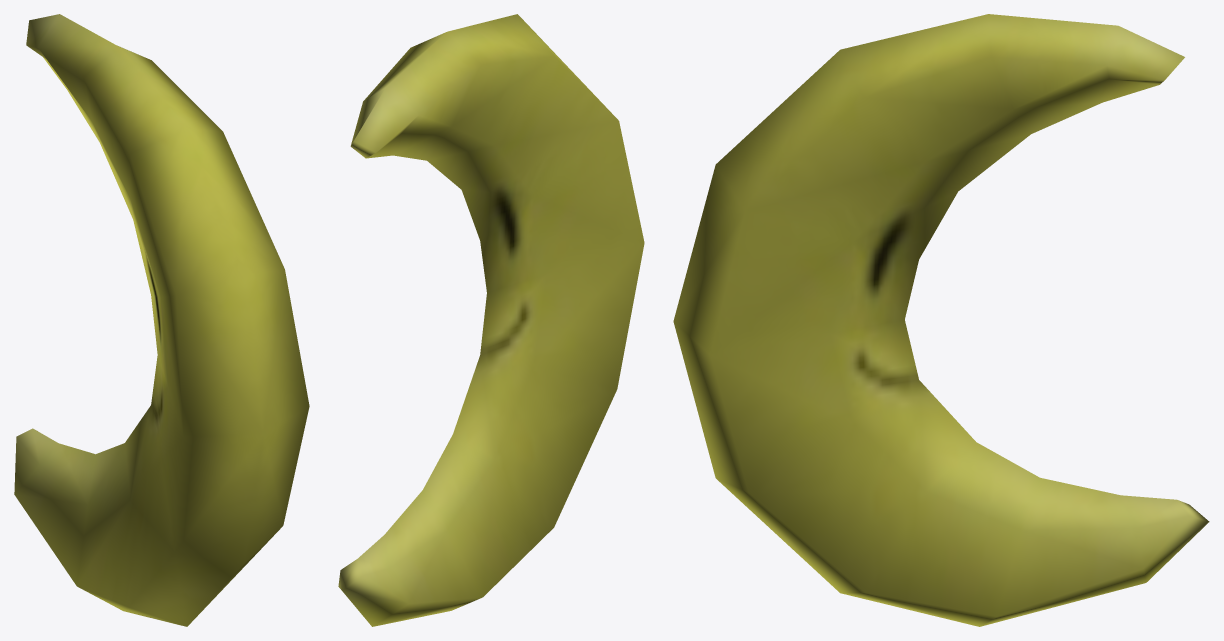
File: moonMike.glb
3 renders of one model, left to right at view 1: azimuth 30°, elevation 25°; view 2: azimuth 150°, elevation 25°; view 3: azimuth 270°, elevation 25°, orthographic. The views are drawn at different scales.
Parts seen in each view (by area): view 1: moonMike; view 2: moonMike; view 3: moonMike.
Part boxes in pixels (bbox=[...]): moonMike: bbox=[14, 14, 309, 626]; moonMike: bbox=[338, 14, 644, 626]; moonMike: bbox=[673, 14, 1209, 626].
Size of the model in its own units: 0.0871 by 0.3714 by 0.2944.
Materials: 1 (1 with a texture image).
